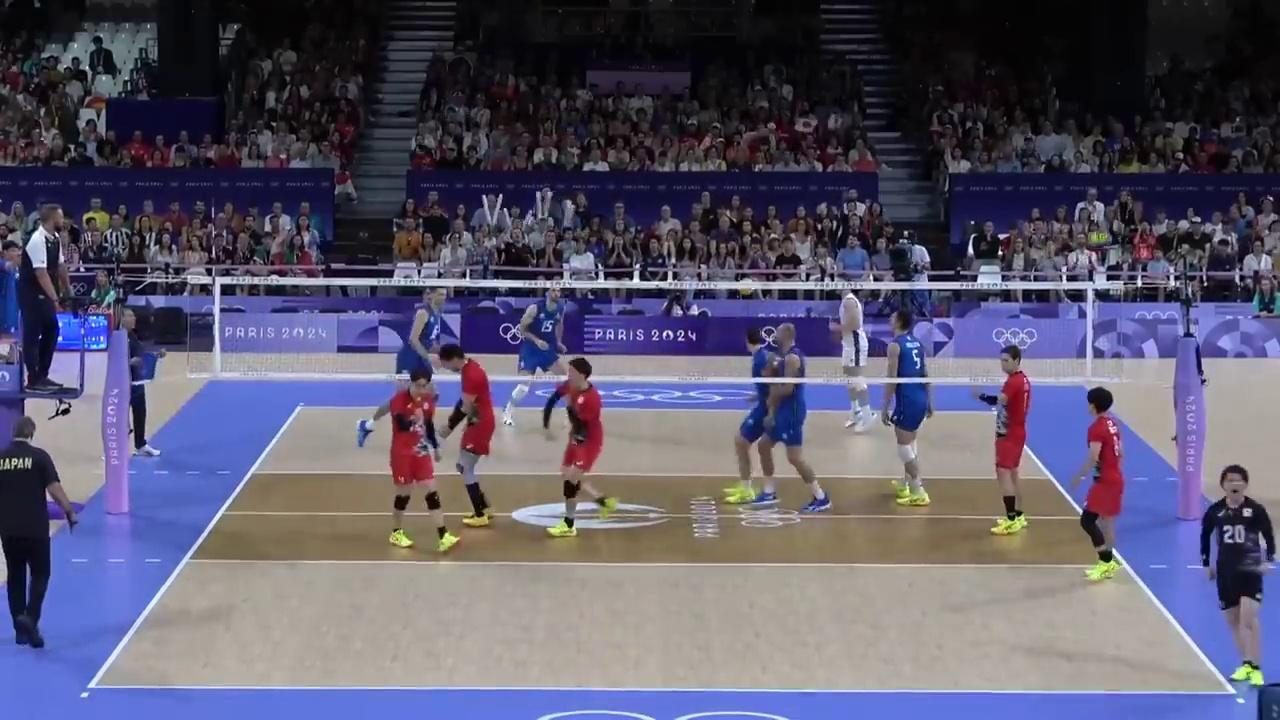ball: (738, 278, 755, 296)
